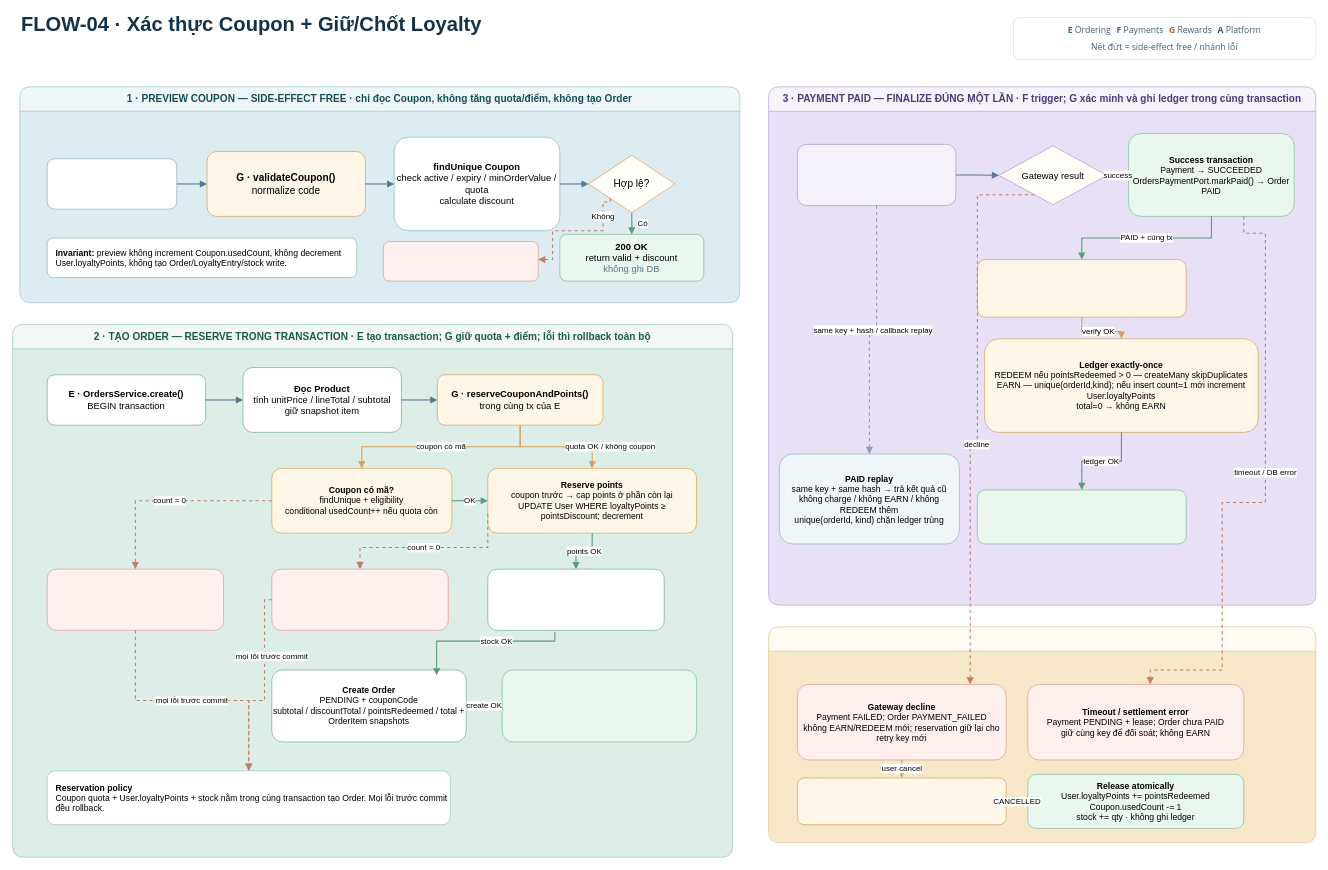
Some shapes in this 1328 by 870 pixel diagram are drawn without their labels. The shapes that lost their labels are listed below. From the top down, each one's box as (x1, y1, x2, y2) in pixels, then its label:
(46, 158, 177, 209): Client / UI code + orderTotal
(797, 144, 956, 206): F · PaymentService.pay() Idempotency-Key + requestHash charge mock gateway
(383, 241, 538, 281): 400 / 404 inactive · expired · min value · quota exhausted không mutation
(977, 259, 1186, 317): G · finalizeRewardsOnPaid() verify user + status=PAID + total snapshot
(977, 489, 1186, 544): COMMIT PAID Payment + Order + REDEEM/EARN + balance cùng transaction
(46, 568, 224, 630): Quota race / invalid count = 0 → 409/400 ROLLBACK quota + order + stock + points
(271, 568, 448, 630): Thiếu điểm / race 400/409 → ROLLBACK conditional quota update và toàn tx
(487, 568, 664, 630): Reserve stock conditional decrement + version++ nếu fail → ROLLBACK rewards
(501, 669, 697, 742): COMMIT Order PENDING; quota + balance đã giữ chưa ghi REDEEM ở PENDING
(768, 626, 1316, 843): 4 · LỖI / RETRY / CANCEL · không ghi EARN khi payment chưa PAID
(797, 777, 1006, 825): Cancel PENDING / PAYMENT_FAILED CAS → CANCELLED; releaseOnCancel()
